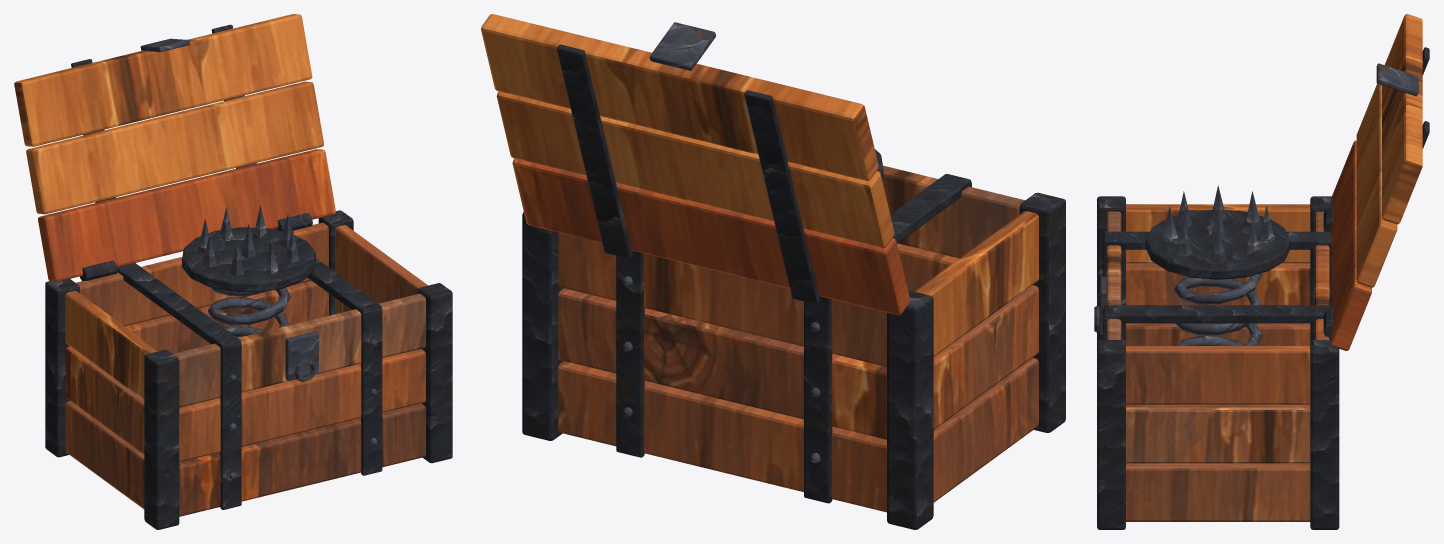
File: op_decoy_chest.glb
3 renders of one model, left to right at view 1: azimuth 30°, elevation 25°; view 2: azimuth 150°, elevation 25°; view 3: azimuth 270°, elevation 25°, orthographic. The views are drawn at different scales.
Parts seen in each view (by area): view 1: model; view 2: model; view 3: model.
Boxes of the visible parts, left/top/right/bottom form: model: left=14, top=14, right=452, bottom=529; model: left=481, top=14, right=1065, bottom=529; model: left=1094, top=14, right=1429, bottom=529.
Size of the model in its own units: 0.76 by 0.8699 by 0.6911.
10 materials, 9 textured.
